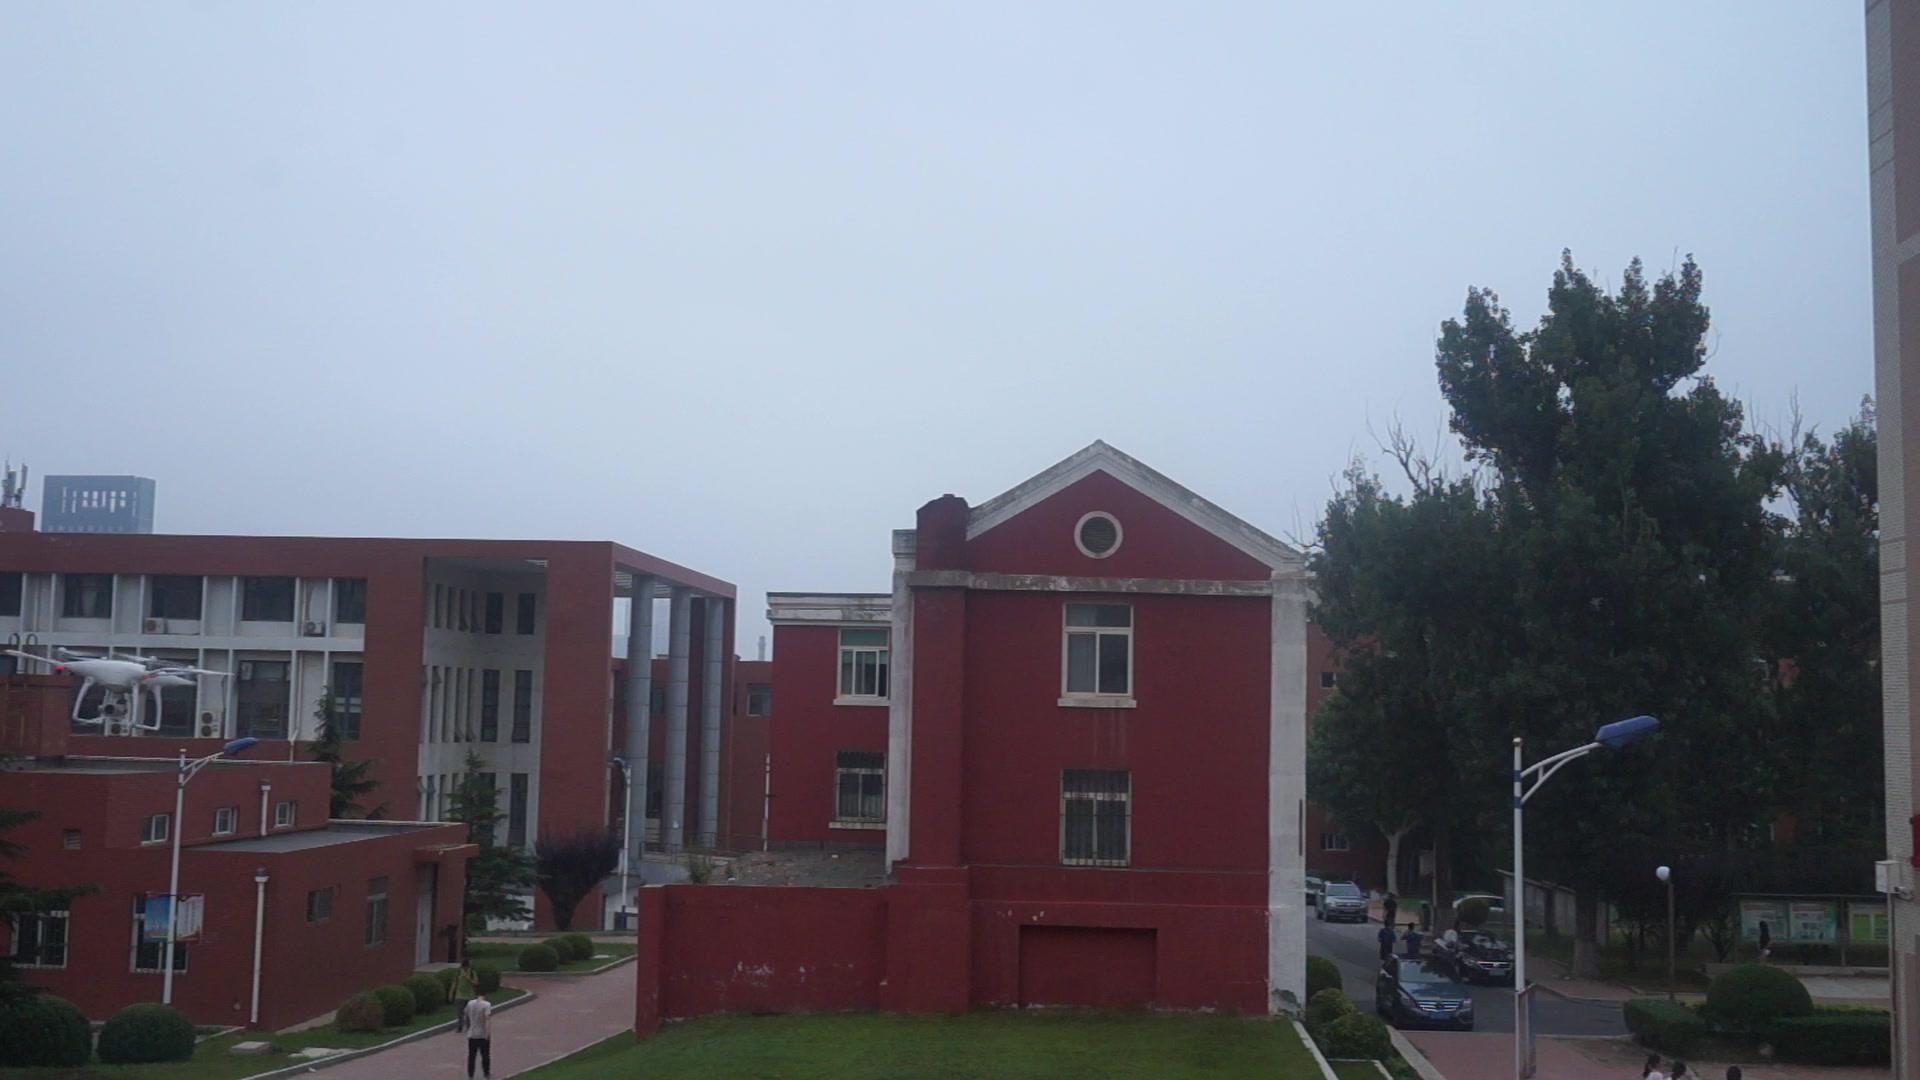UAV: (7, 647, 236, 732)
